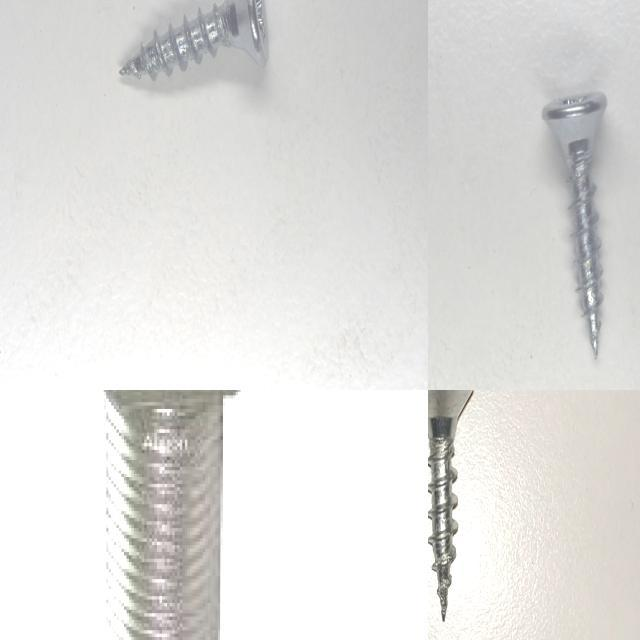Screw: (100, 390, 232, 640), (542, 91, 607, 356), (120, 0, 269, 79), (428, 390, 473, 621)
